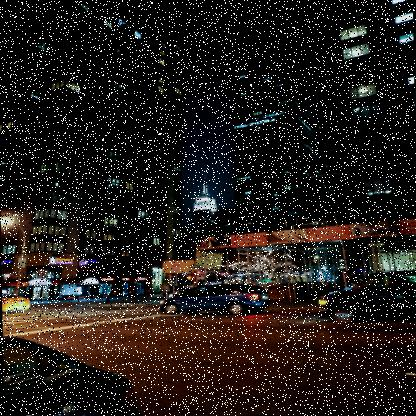Car: (2, 332, 144, 415), (318, 268, 415, 323), (160, 284, 270, 316), (2, 294, 30, 312)
